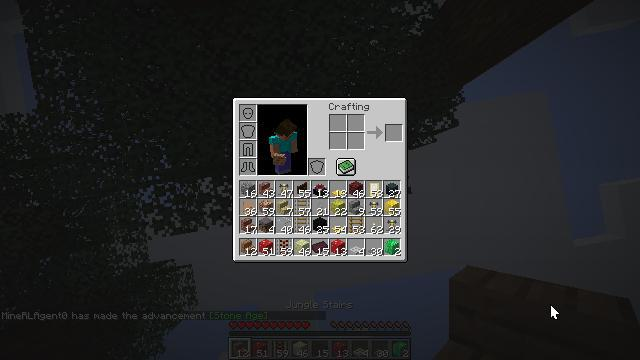cursor: (550, 304, 560, 320)
